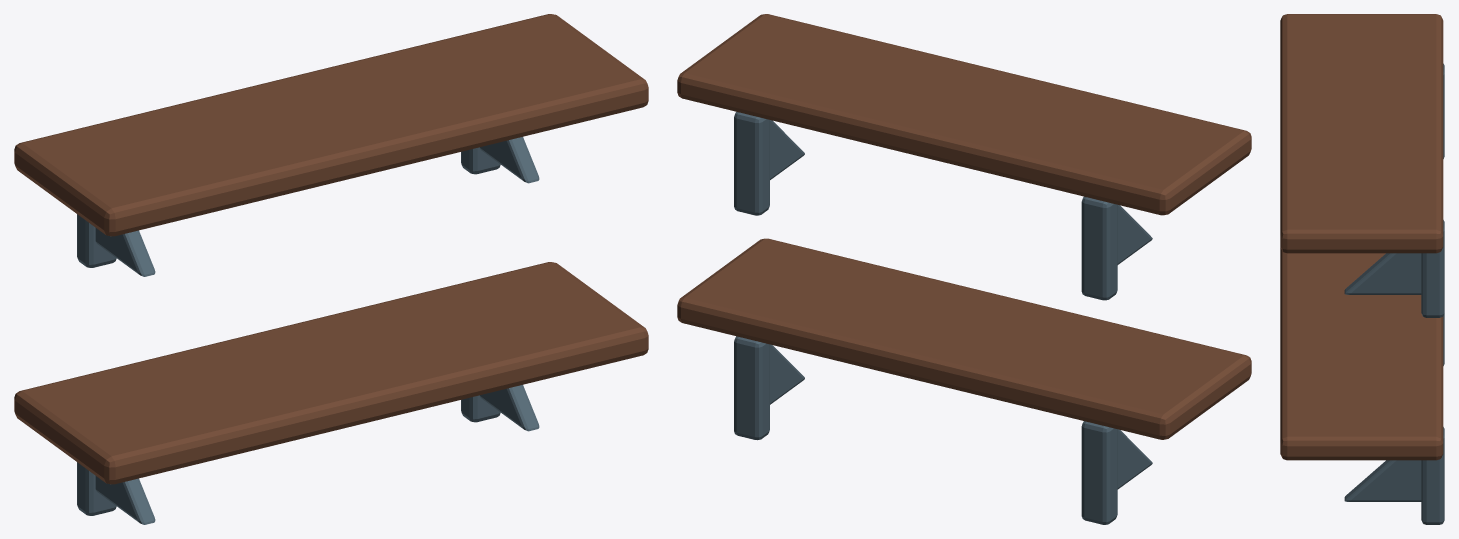
File: WallShelves.fbx
3 renders of one model, left to right at view 1: azimuth 30°, elevation 25°; view 2: azimuth 150°, elevation 25°; view 3: azimuth 270°, elevation 25°, orthographic. The views are drawn at different scales.
Parts seen in each view (by area): view 1: Rounded shelf board, Rounded shelf board.001, Cast bracket, Cast bracket.002, Cast bracket.003, Cast bracket.001, Bracket wall plate.002, Bracket wall plate, Bracket wall plate.001, Bracket wall plate.003; view 2: Rounded shelf board.001, Rounded shelf board, Bracket wall plate.002, Bracket wall plate, Bracket wall plate.003, Bracket wall plate.001, Cast bracket.002, Cast bracket, Cast bracket.003, Cast bracket.001; view 3: Rounded shelf board.001, Rounded shelf board, Cast bracket.003, Cast bracket.001, Bracket wall plate.001, Bracket wall plate.003.
Boxes of the visible parts, x1,y1,x2,y2 form: Rounded shelf board: (14, 262, 648, 484); Rounded shelf board.001: (14, 14, 648, 236); Cast bracket: (95, 476, 155, 524); Cast bracket.002: (95, 228, 155, 276); Cast bracket.003: (480, 137, 539, 183); Cast bracket.001: (480, 385, 539, 431); Bracket wall plate.002: (77, 214, 116, 267); Bracket wall plate: (77, 462, 116, 515); Bracket wall plate.001: (461, 395, 500, 422); Bracket wall plate.003: (461, 147, 500, 174); Rounded shelf board.001: (677, 14, 1251, 215); Rounded shelf board: (677, 238, 1251, 439); Bracket wall plate.002: (1081, 196, 1117, 300); Bracket wall plate: (1081, 421, 1117, 524); Bracket wall plate.003: (734, 112, 769, 215); Bracket wall plate.001: (734, 336, 769, 440); Cast bracket.002: (1117, 205, 1152, 264); Cast bracket: (1117, 429, 1152, 489); Cast bracket.003: (770, 120, 804, 179); Cast bracket.001: (770, 344, 804, 404); Rounded shelf board.001: (1280, 14, 1443, 253); Rounded shelf board: (1280, 247, 1443, 460); Cast bracket.003: (1344, 253, 1421, 294); Cast bracket.001: (1344, 460, 1421, 501); Bracket wall plate.001: (1421, 427, 1444, 524); Bracket wall plate.003: (1421, 220, 1444, 317).
Bounding box in the file's own units: 0.81 × 0.5465 × 0.254.
